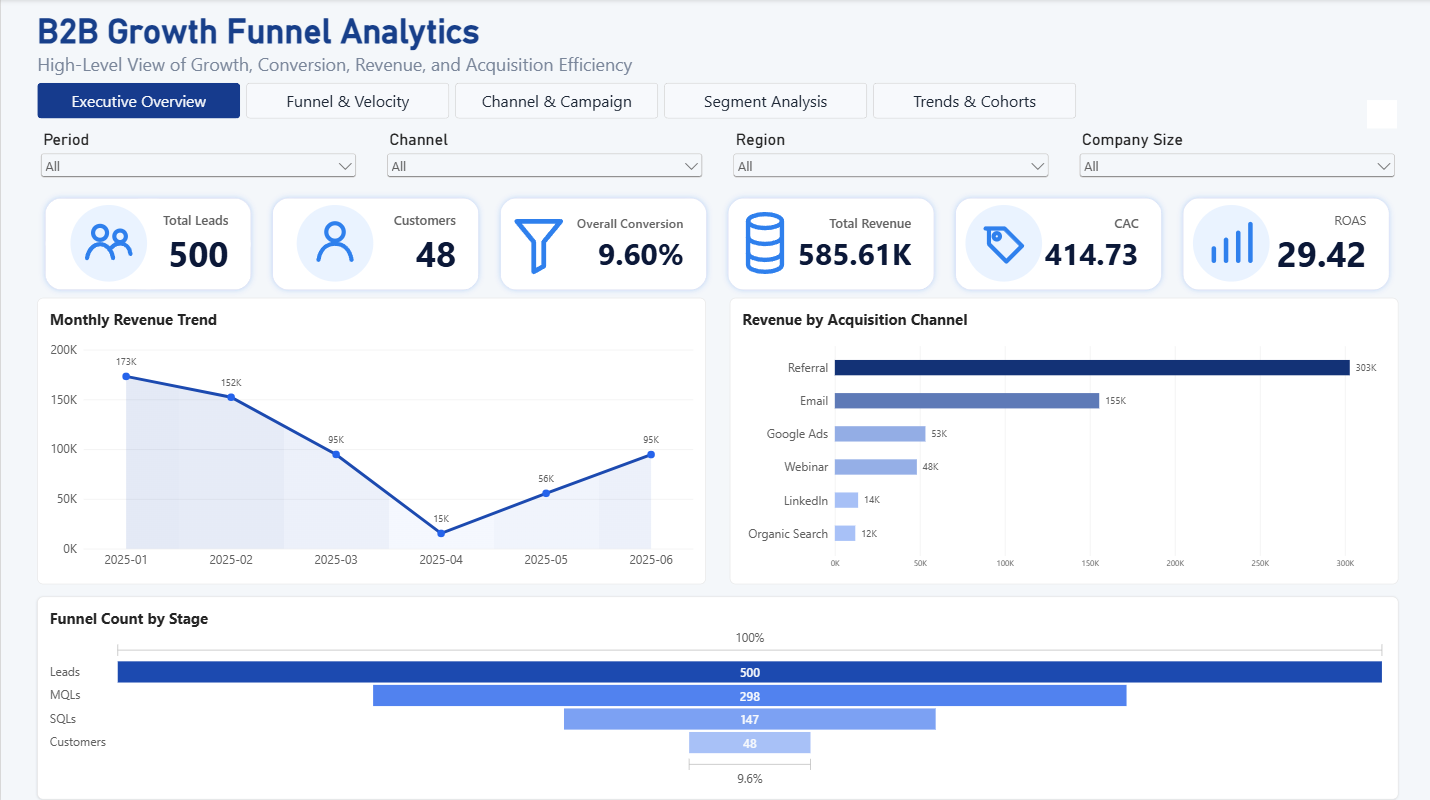

The page's visual inventory and layout, read from the dashboard file:
{"tool":"powerbi","page":{"name":"Executive Overview","canvas":[1920,1080],"ordinal":0},"visuals":[{"type":"textbox","box":[10,0,280,280],"z":0},{"type":"textbox","title":"B2B Growth Funnel Analytics","box":[48,16,832,96],"z":1000},{"type":"pageNavigator","box":[48,112,1392,48],"z":2000},{"type":"slicer","fields":{"Values":["Date.Year Month"]},"box":[48,176,432,80],"z":3000},{"type":"slicer","fields":{"Values":["Lead Funnel.channel"]},"box":[512,176,432,80],"z":4000},{"type":"slicer","fields":{"Values":["Lead Funnel.region"]},"box":[976,176,432,80],"z":5000},{"type":"slicer","fields":{"Values":["Lead Funnel.company_size"]},"box":[1440,176,432,80],"z":6000},{"type":"cardVisual","fields":{"Data":["Lead Funnel.Total Leads","Lead Funnel.Customers","Lead Funnel.Overall Conversion %","Lead Funnel.Total Revenue","Lead Funnel.CAC","Lead Funnel.ROAS"]},"box":[48,256,1824,144],"z":7000},{"type":"areaChart","title":"Monthly Revenue Trend","fields":{"Category":["Date.Year Month"],"Y":["Lead Funnel.Total Revenue"]},"box":[48,400,896,384],"z":8000},{"type":"clusteredBarChart","title":"Revenue by Acquisition Channel","fields":{"Category":["Lead Funnel.channel"],"Y":["Lead Funnel.Total Revenue"]},"box":[976,400,896,384],"z":9000},{"type":"funnel","fields":{"Category":["Funnel Stages.Stage"],"Y":["Lead Funnel.Funnel Count"]},"box":[48,800,1824,272],"z":10000},{"type":"image","box":[80,272,128,112],"z":11000},{"type":"image","box":[960,256,128,144],"z":12000},{"type":"image","box":[656,272,128,128],"z":13000},{"type":"image","box":[1584,272,128,112],"z":14000},{"type":"image","box":[1280,272,128,112],"z":15000},{"type":"image","box":[384,272,128,112],"z":16000}]}

Visuals, with their boxes in screenshot pixels (x1, y1, x2, y2), scaled from the page's 1920x1080 canvas onto the 1430x800 screenshot:
textbox: crop(7, 0, 216, 207)
"B2B Growth Funnel Analytics" textbox: crop(36, 12, 655, 83)
pageNavigator: crop(36, 83, 1072, 119)
slicer - Date.Year Month: crop(36, 130, 358, 190)
slicer - Lead Funnel.channel: crop(381, 130, 703, 190)
slicer - Lead Funnel.region: crop(727, 130, 1049, 190)
slicer - Lead Funnel.company_size: crop(1072, 130, 1394, 190)
cardVisual - Lead Funnel.Total Leads x Lead Funnel.Customers: crop(36, 190, 1394, 296)
"Monthly Revenue Trend" areaChart: crop(36, 296, 703, 581)
"Revenue by Acquisition Channel" clusteredBarChart: crop(727, 296, 1394, 581)
funnel - Funnel Stages.Stage x Lead Funnel.Funnel Count: crop(36, 593, 1394, 794)
image: crop(60, 201, 155, 284)
image: crop(715, 190, 810, 296)
image: crop(489, 201, 584, 296)
image: crop(1180, 201, 1275, 284)
image: crop(953, 201, 1049, 284)
image: crop(286, 201, 381, 284)
